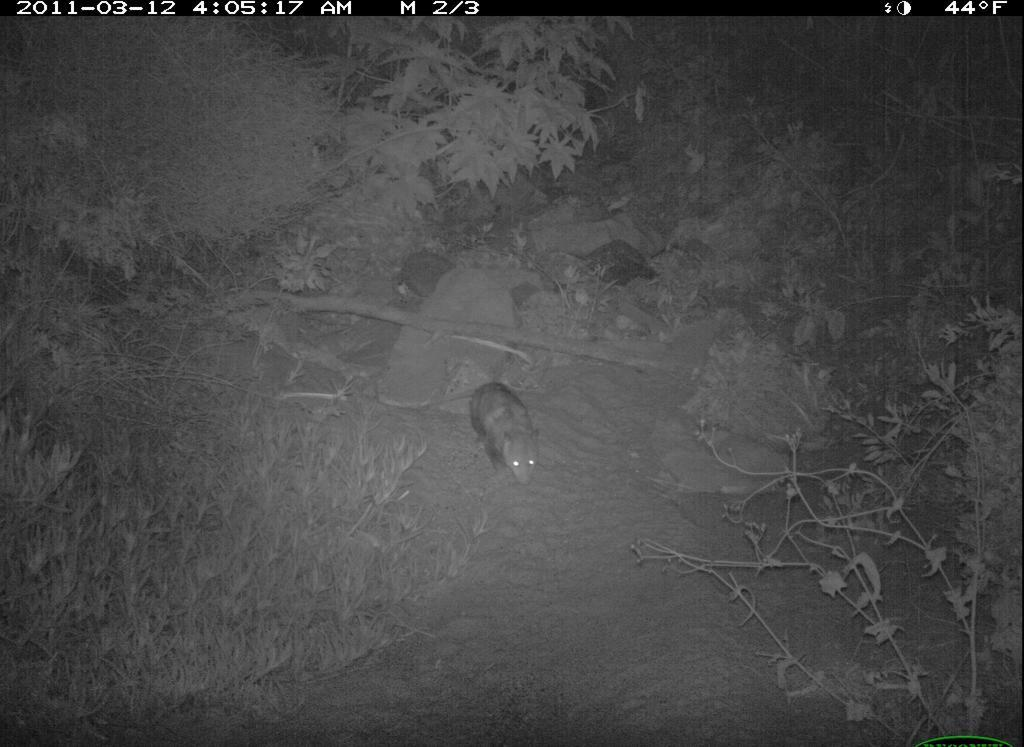opossum: (433, 369, 547, 491)
